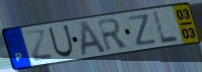A: (79, 19, 109, 58)
L: (152, 10, 181, 45)
R: (96, 17, 131, 53)
U: (47, 24, 76, 60)
Z: (127, 13, 159, 48), (23, 29, 55, 63)
